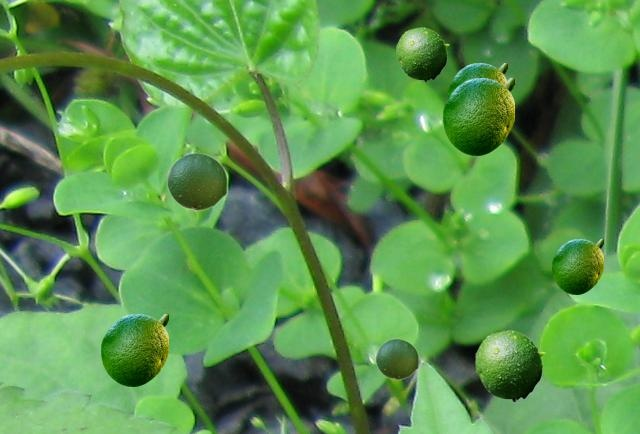dalandan: (443, 78, 513, 154), (475, 330, 544, 401), (101, 314, 167, 385), (166, 152, 227, 210), (396, 27, 448, 81), (552, 239, 602, 293), (448, 63, 506, 97), (375, 338, 418, 379)
